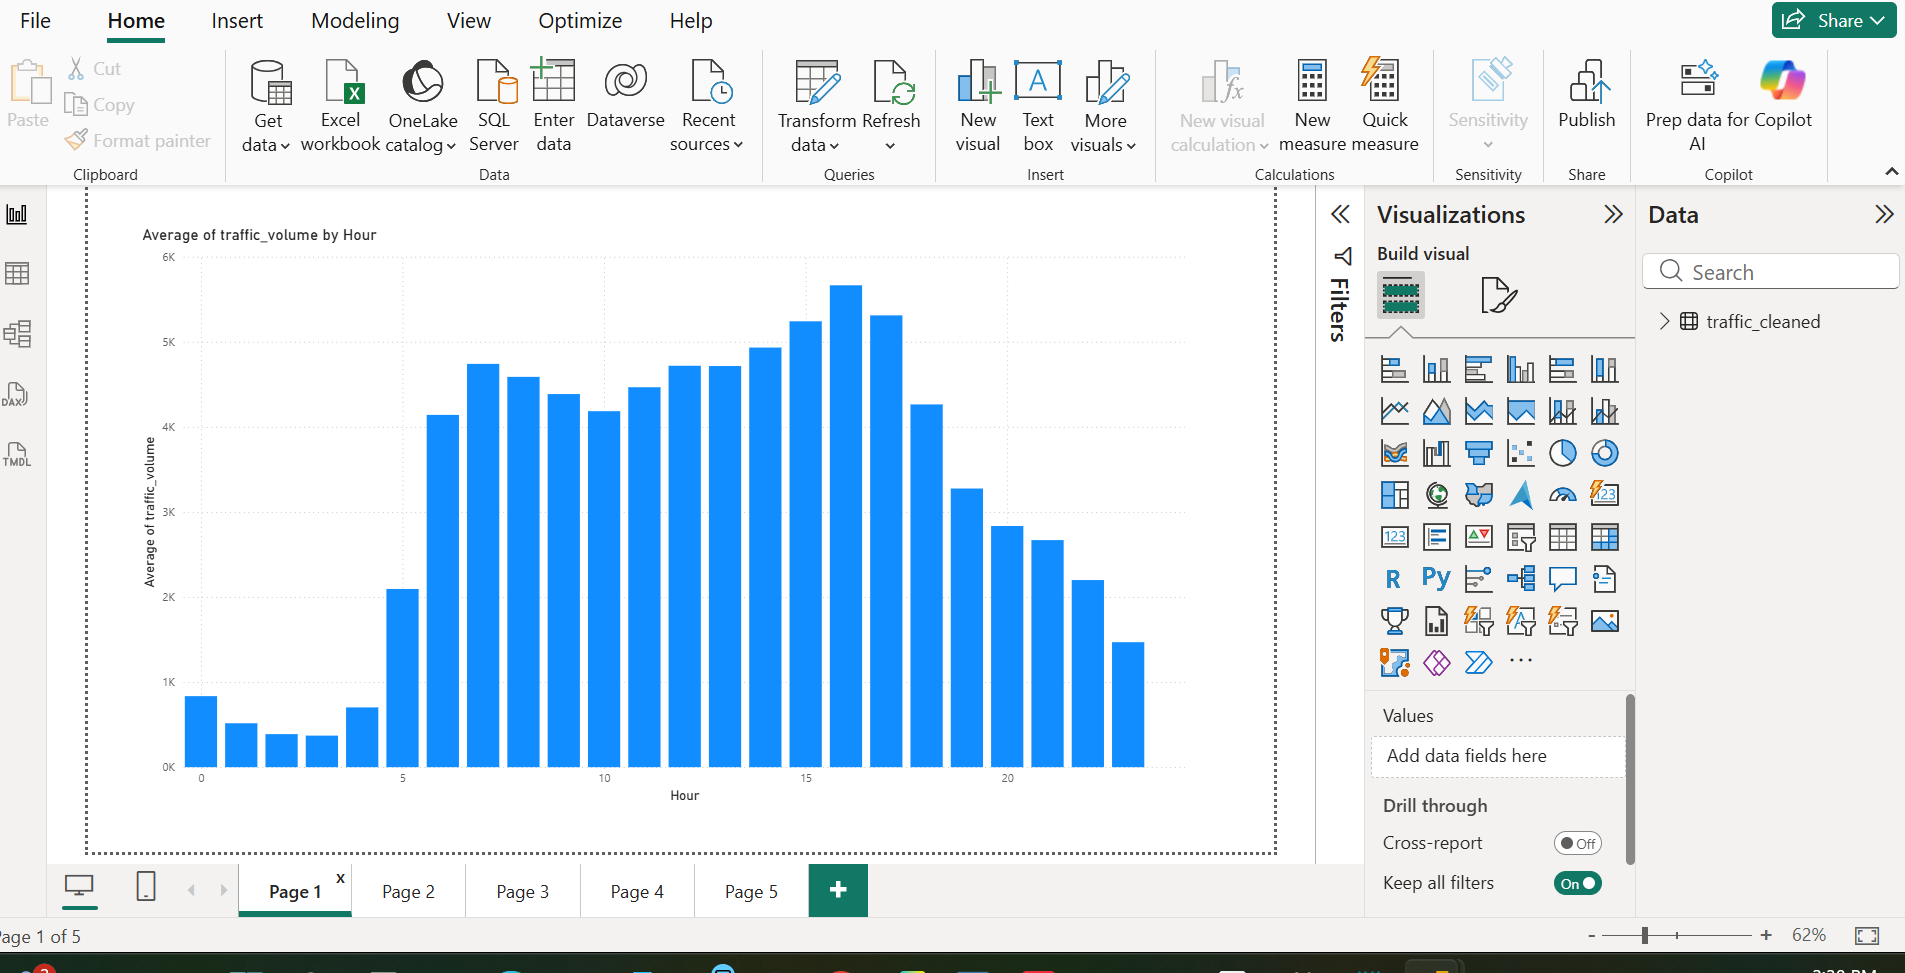

The dashboard page shown, as its layout file describes it:
{"tool":"powerbi","page":{"name":"Page 1","canvas":[1280,720],"ordinal":0},"visuals":[{"type":"clusteredColumnChart","fields":{"Y":["Avg(traffic_cleaned.traffic_volume)"],"Category":["traffic_cleaned.Hour"]},"box":[52.9,43.5,1135.8,627.4],"z":0}]}

Visuals, with their boxes on the page's 1280x720 design canvas (x1, y1, x2, y2). These are canvas units, not pixel positions in the 1905x973 screenshot, which may show the page scaled, cropped or inside an application window:
clusteredColumnChart - Avg(traffic_cleaned.traffic_volume) x traffic_cleaned.Hour: pyautogui.locateOnScreen(53, 44, 1189, 671)
